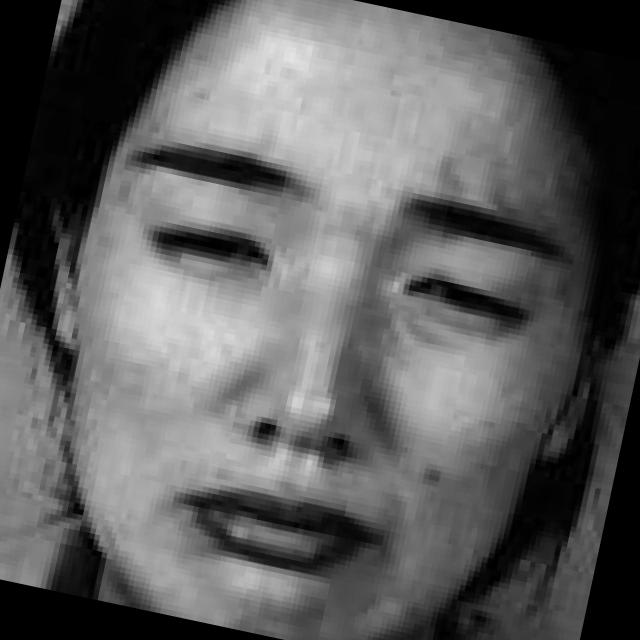sad: (14, 55, 604, 640)
